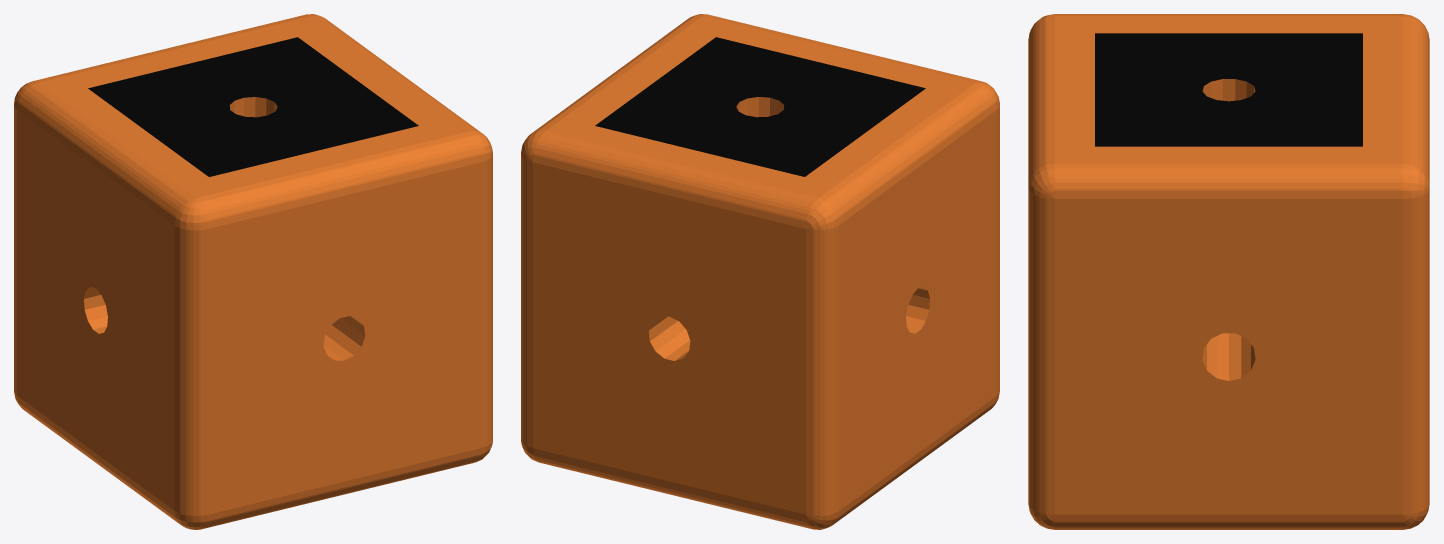
Rendered from irb120pe_BlackCube.dae.
The picture shows the model from 3 angles, left to right: view 1: azimuth 30°, elevation 25°; view 2: azimuth 150°, elevation 25°; view 3: azimuth 270°, elevation 25°; orthographic projection. The views are drawn at different scales.
Parts seen in each view (by area): view 1: node; view 2: node; view 3: node.
Part boxes in pixels (box(x1,y1,x2,y2)): node: box(14, 14, 492, 529); node: box(521, 14, 999, 529); node: box(1028, 14, 1429, 529).
Bounding box in the file's own units: 0.03 × 0.03 × 0.03.
